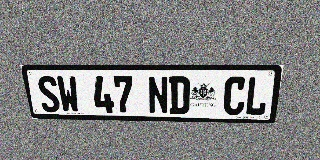4: (91, 76, 115, 113)
7: (112, 76, 135, 114)
C: (222, 76, 247, 115)
D: (169, 76, 190, 114)
L: (244, 77, 270, 116)
N: (147, 76, 168, 114)
S: (36, 76, 61, 112)
W: (56, 76, 81, 113)
